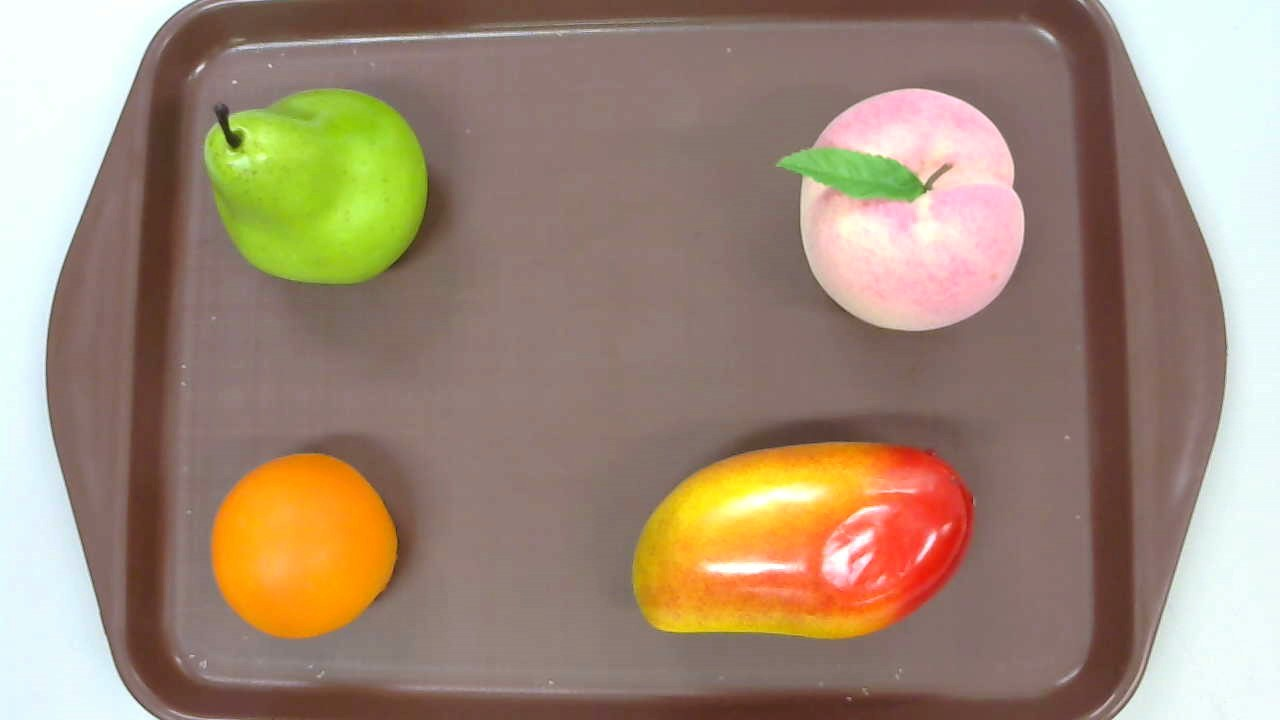bun: (210, 450, 398, 635)
green pear: (202, 88, 428, 287)
peaches: (776, 89, 1026, 333)
red mango: (633, 442, 977, 640)
